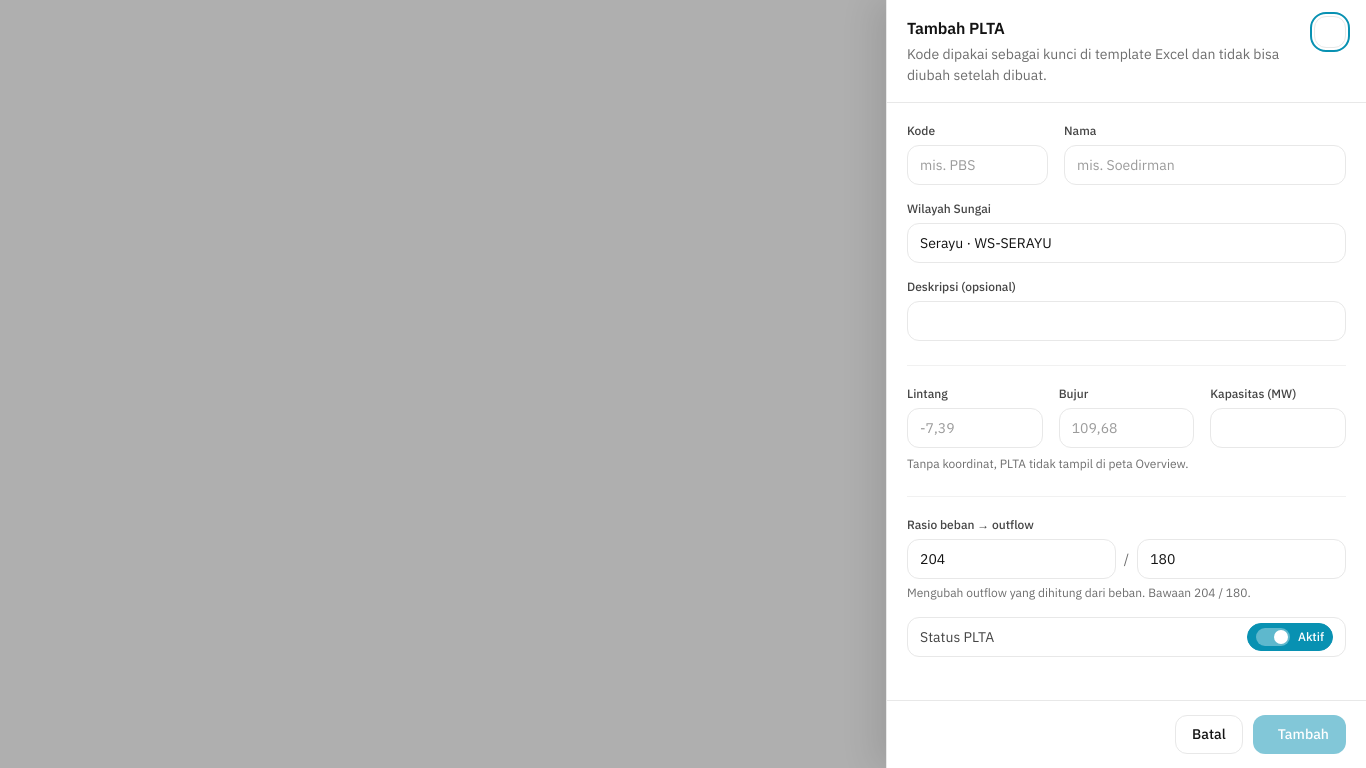
sheet PLTA › tambah: isian belum lengkap ditahan dengan pesan per bidang
Type "PBX" into the field labelled "Kode" at (978, 165), box [907, 145, 1048, 185]
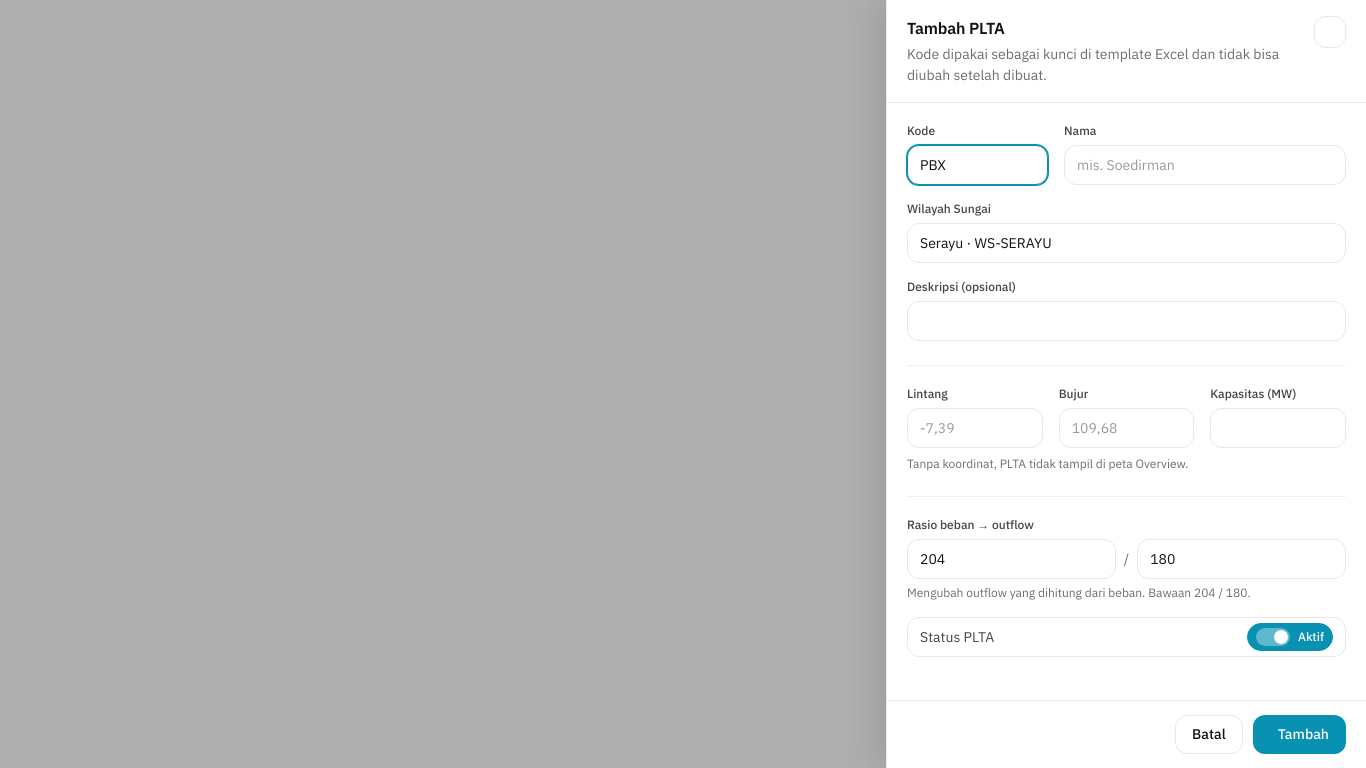
Type "-7.4" into the number field labelled "Lintang" at (975, 428), box [907, 408, 1043, 448]
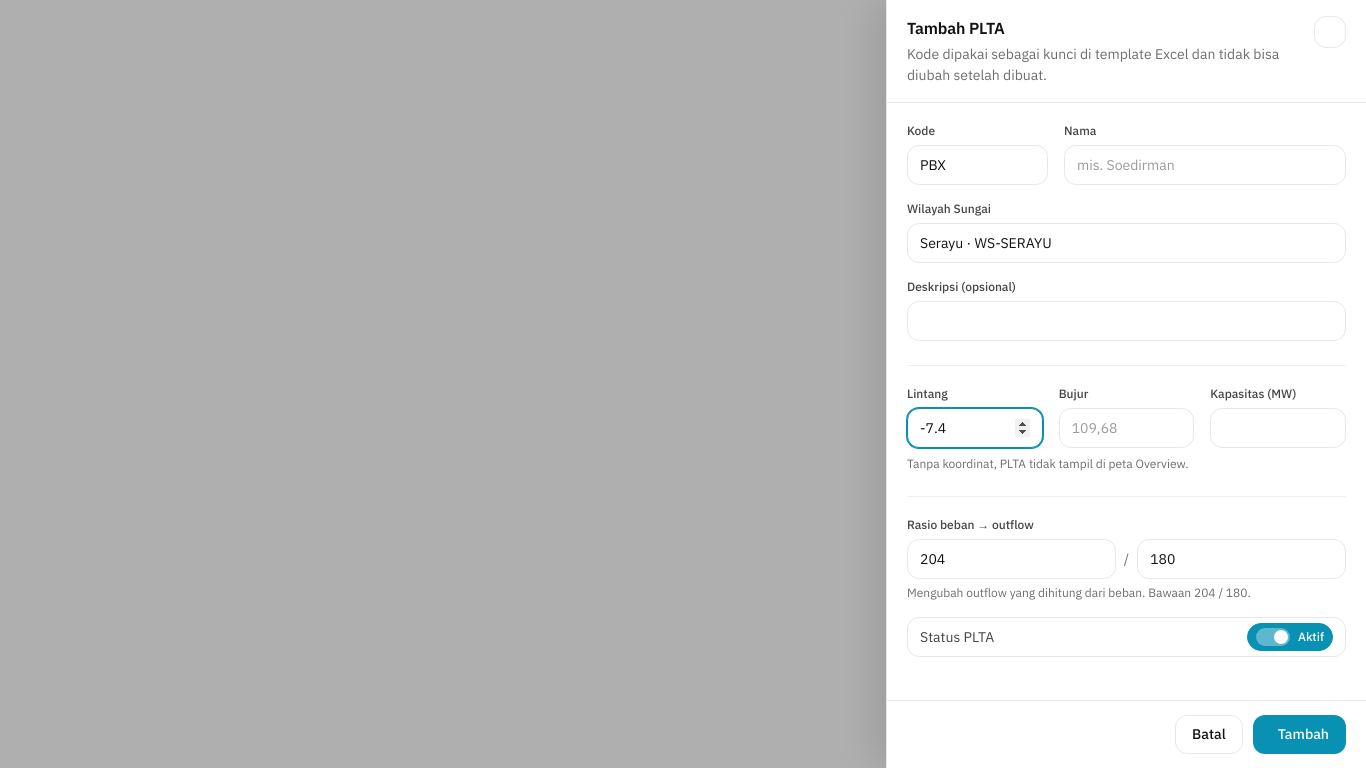
Click the button "Tambah" at (1299, 734), box [1253, 715, 1346, 754]
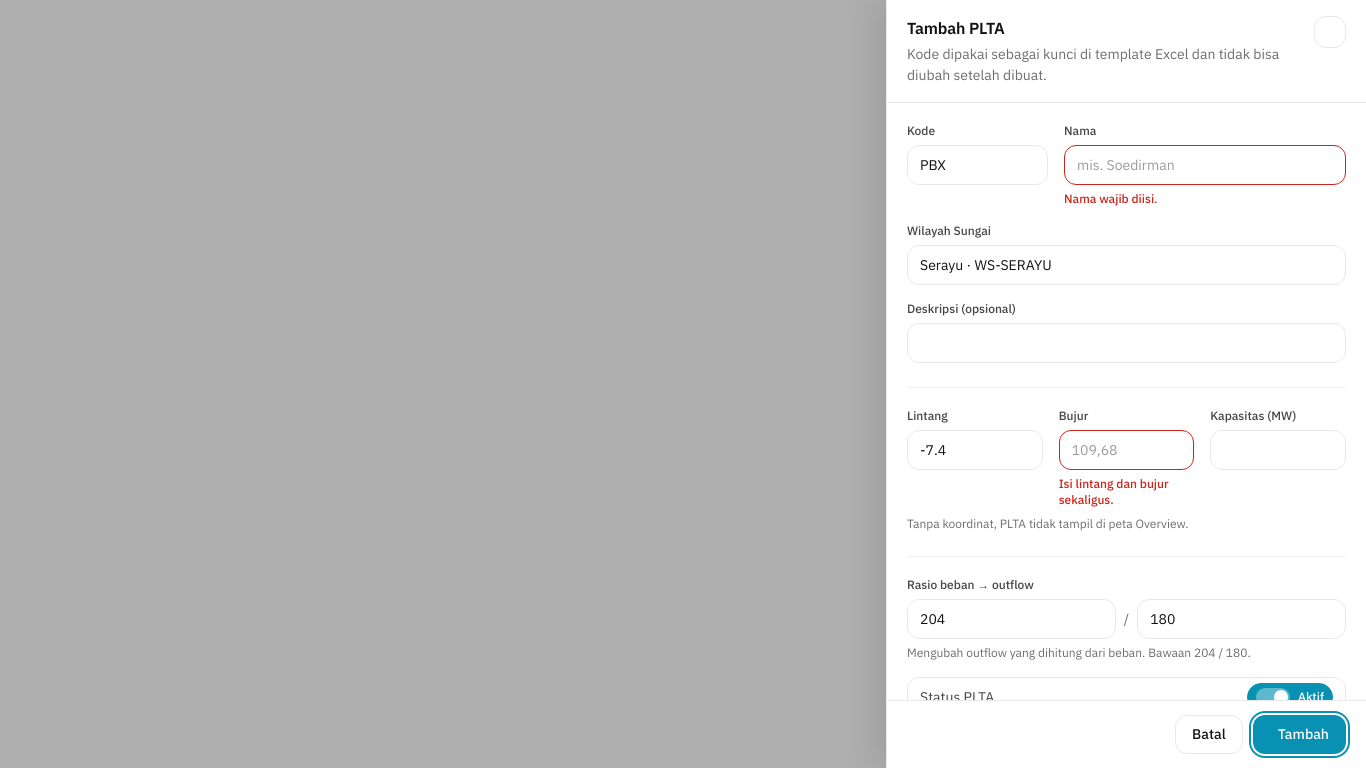
Check: the text "Nama wajib diisi." is shown, box [1064, 191, 1158, 206]
Check: the text "Isi lintang dan bujur sekaligus." is shown, box [1059, 476, 1169, 507]
